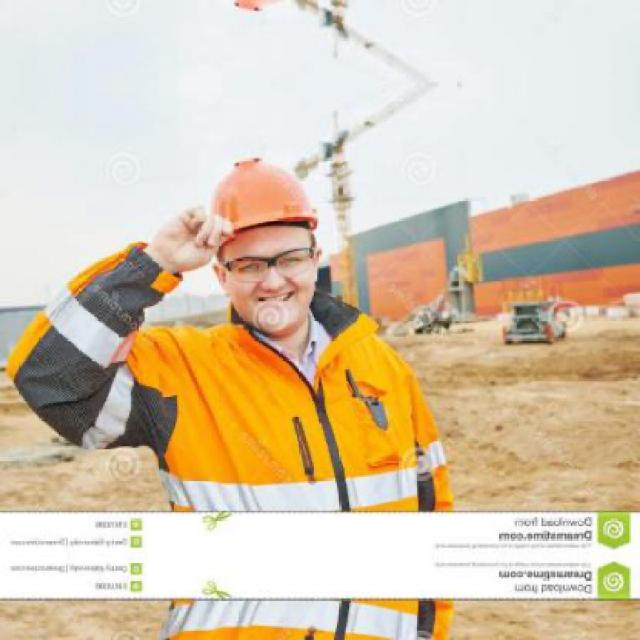helmet: (194, 148, 341, 337)
